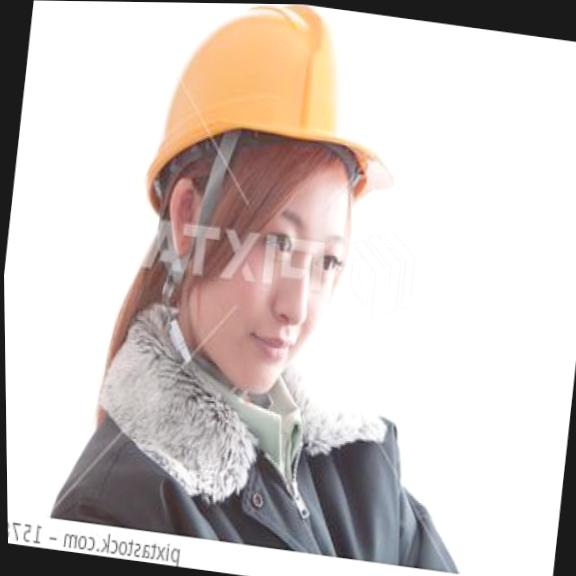no_safety_vest: (44, 309, 444, 567)
